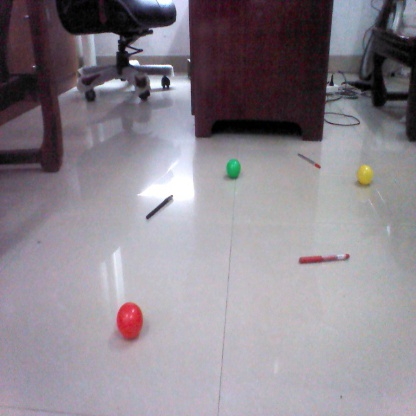ball: (112, 303, 148, 342), (224, 160, 243, 180), (358, 165, 377, 185)
pen: (145, 193, 176, 218), (298, 252, 353, 266), (296, 147, 322, 169)
